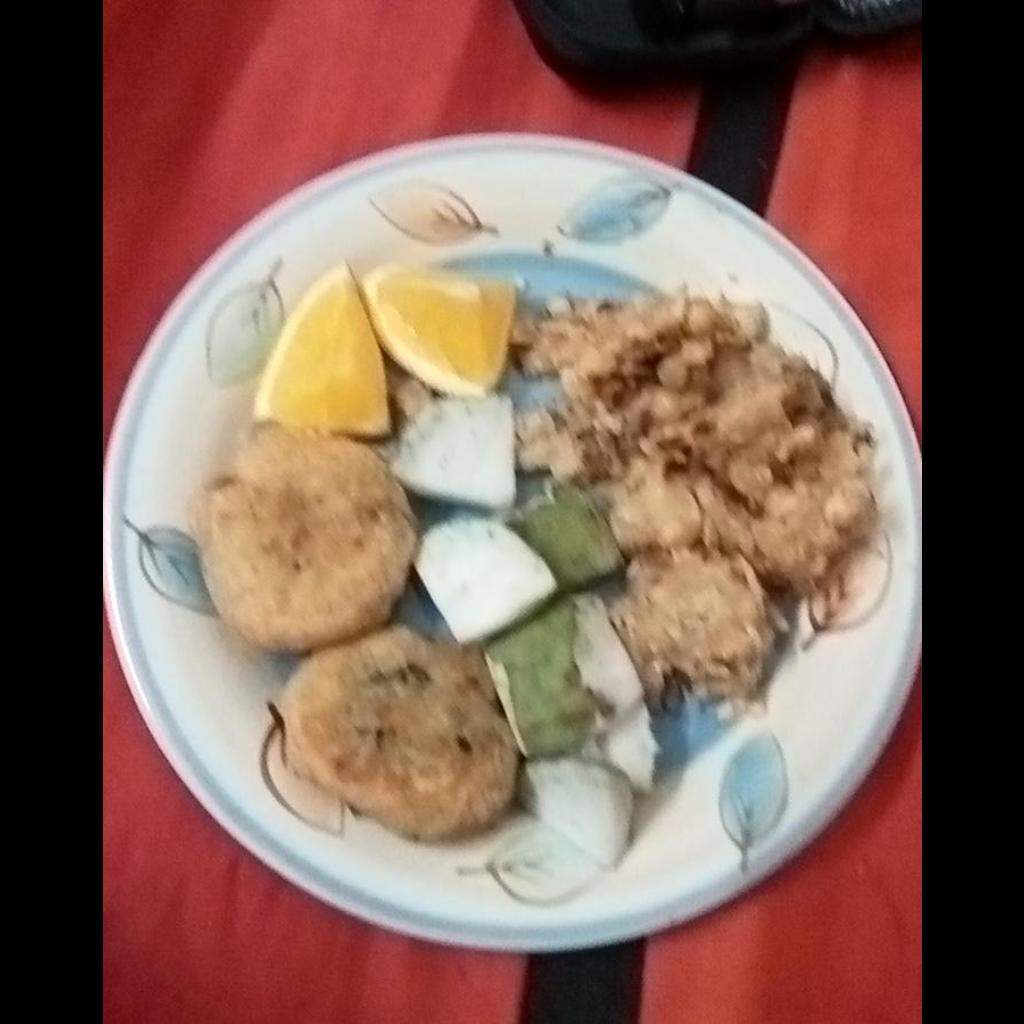daal: (516, 295, 875, 701)
guava: (415, 481, 653, 865), (389, 393, 513, 509)
kabab: (194, 424, 517, 842)
orange: (256, 262, 516, 431)
